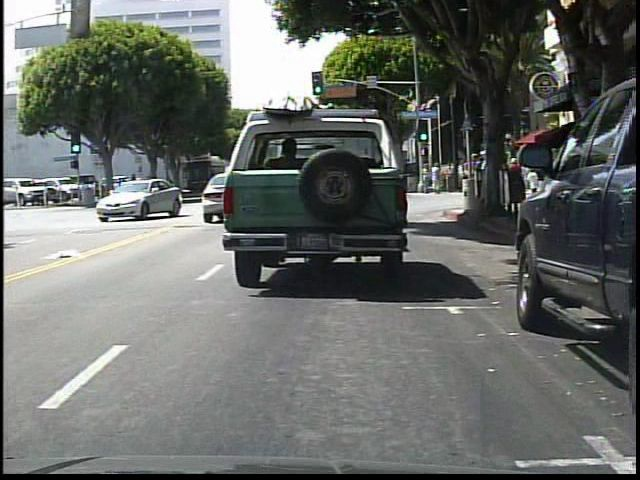person: (526, 164, 543, 205), (430, 161, 442, 194), (445, 161, 456, 193), (420, 165, 430, 194)
